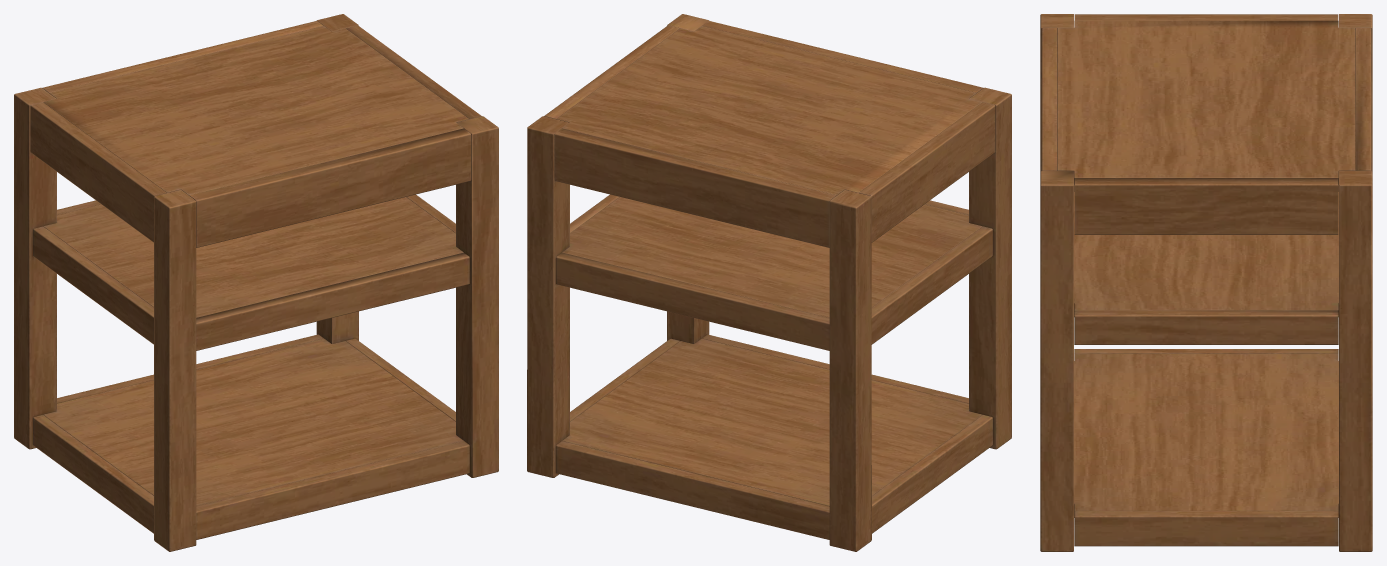
The model's file is side_table_01.glb.
3 views of the same model, side by side, from view 1: azimuth 30°, elevation 25°; view 2: azimuth 150°, elevation 25°; view 3: azimuth 270°, elevation 25° (orthographic). The views are drawn at different scales.
Visible parts, largest first — view 1: side_table_01; view 2: side_table_01; view 3: side_table_01.
Part boxes in pixels (left/top/right/bottom): side_table_01: left=14, top=14, right=498, bottom=551; side_table_01: left=527, top=14, right=1011, bottom=551; side_table_01: left=1040, top=14, right=1372, bottom=551.
Bounding box in the file's own units: 0.55 × 0.5507 × 0.45.
1 material, 1 textured.
